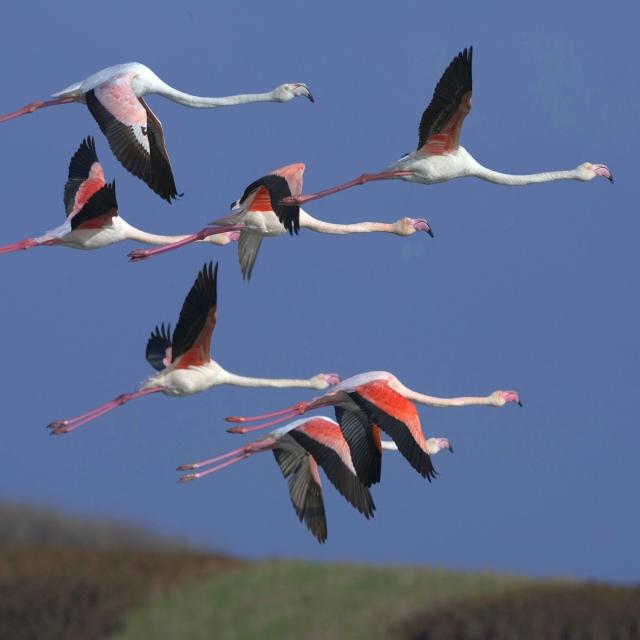bird: (278, 43, 617, 202), (32, 281, 341, 447), (0, 52, 332, 197), (132, 162, 436, 276), (222, 364, 528, 460), (0, 147, 246, 246)
